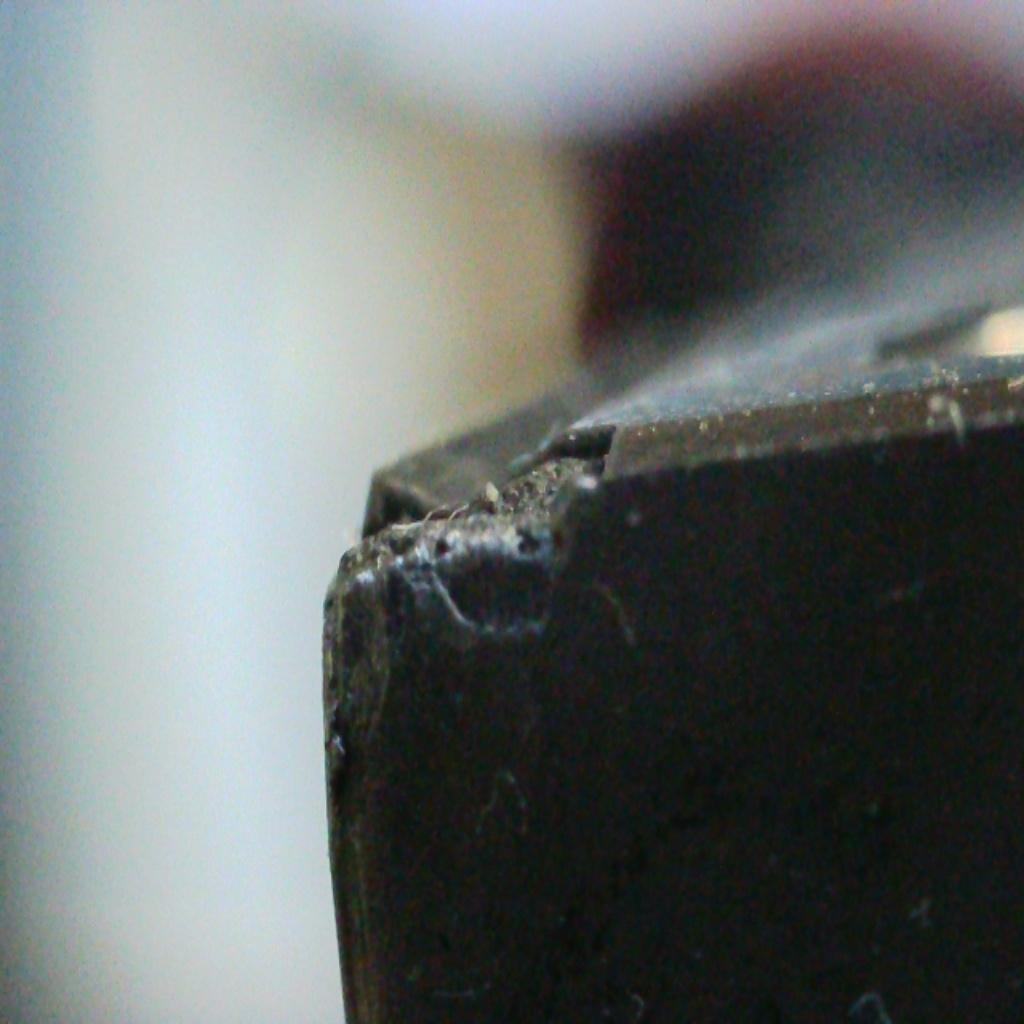flank_wear: (428, 533, 574, 643)
